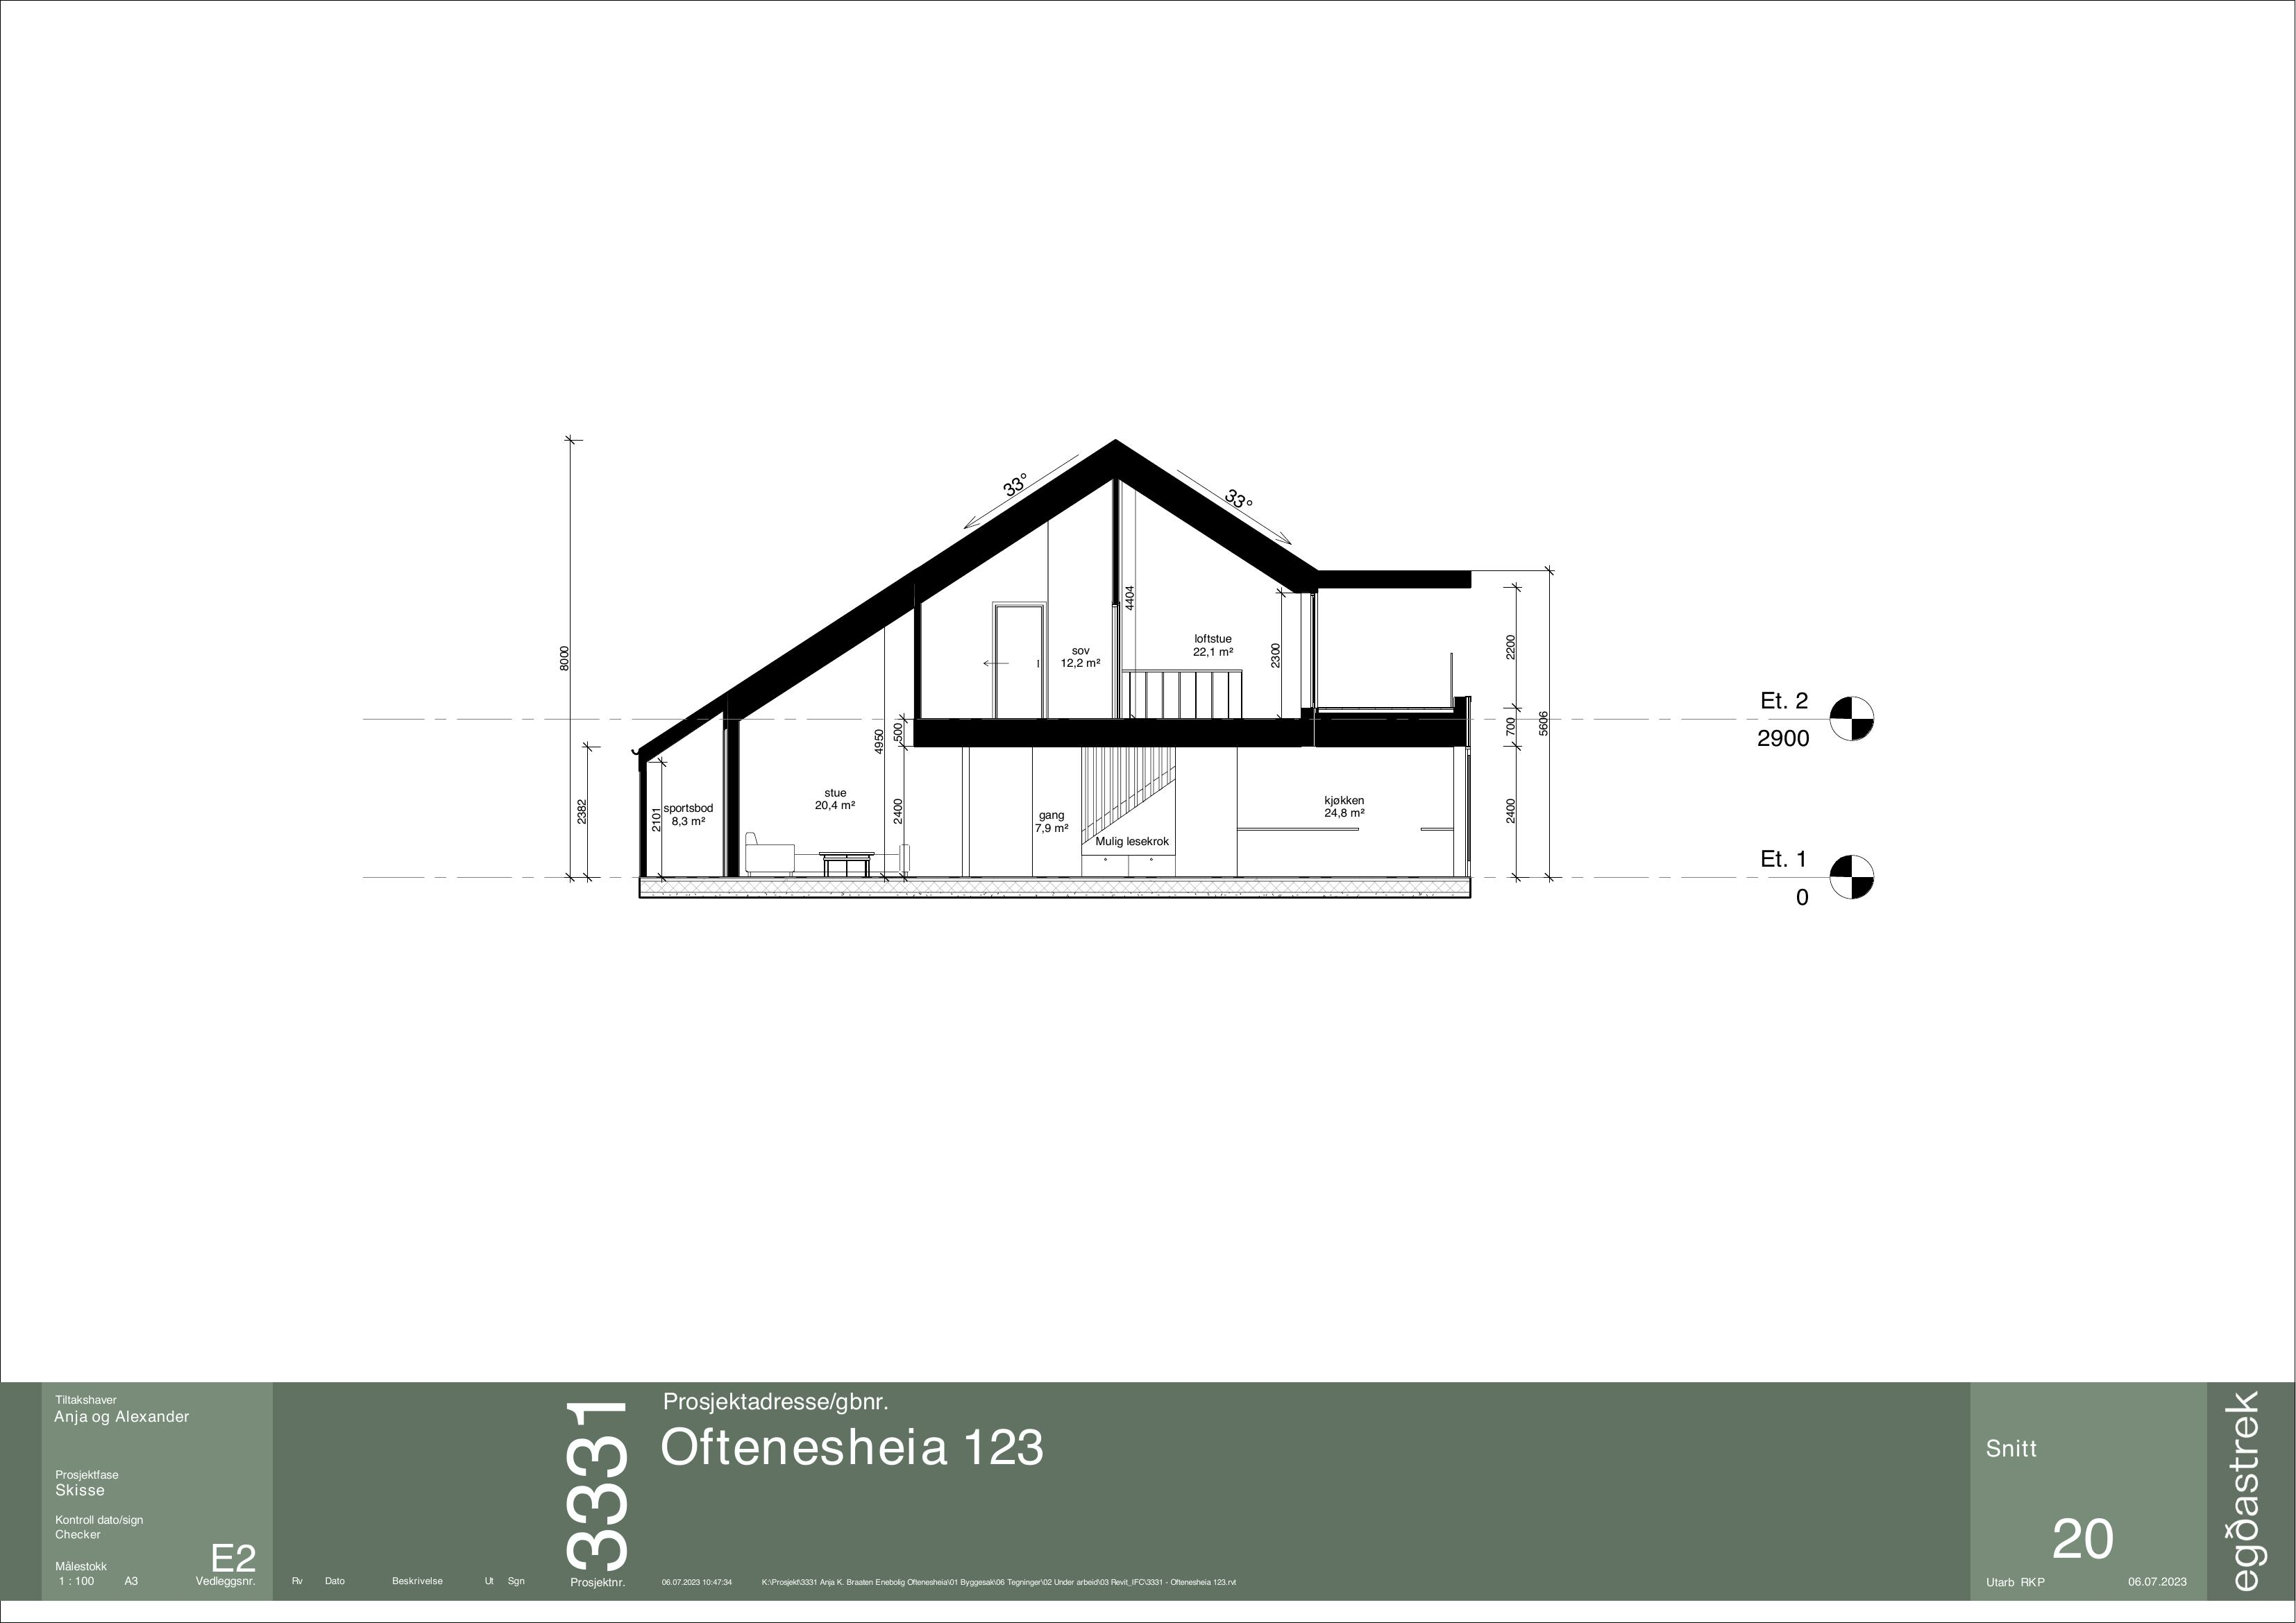snitt: (624, 422, 1563, 952)
